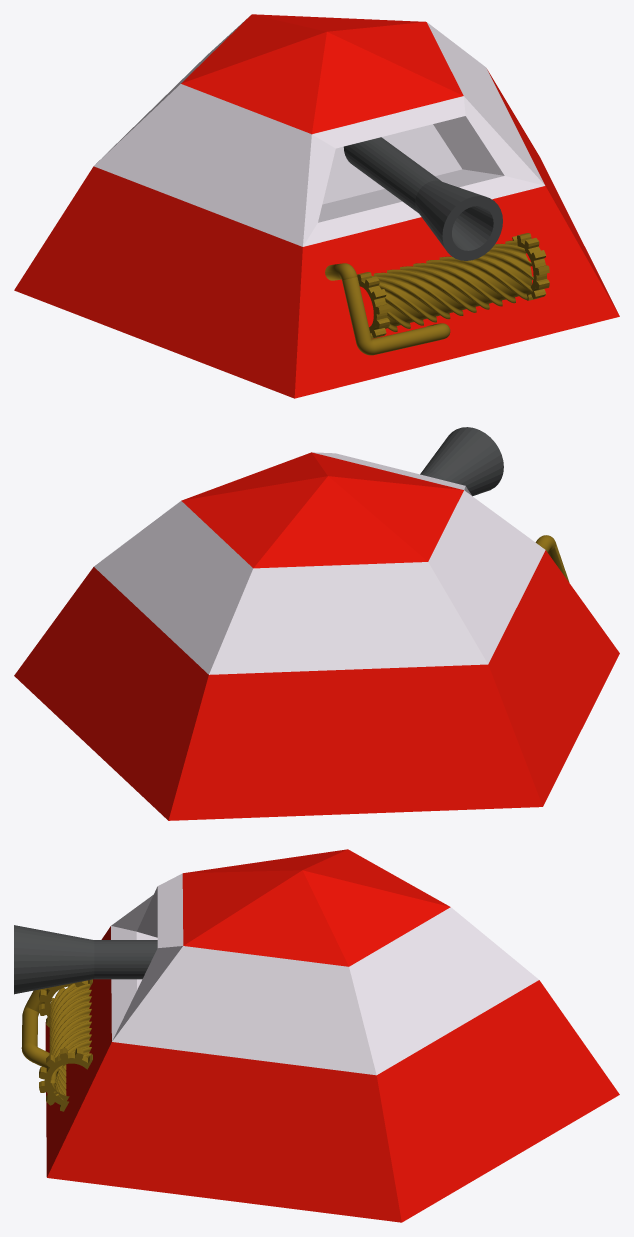
File: Model_Defender_Short_MiscUpgrade.fbx
The picture shows the model from 3 angles, top to bottom: view 1: azimuth 30°, elevation 25°; view 2: azimuth 150°, elevation 25°; view 3: azimuth 270°, elevation 25°; orthographic projection.
Parts seen in each view (by area): view 1: Icosphere, Speedgear, Cylinder, Speedpipe; view 2: Icosphere, Cylinder; view 3: Icosphere, Cylinder, Speedgear, Speedpipe.
Boxes of the visible parts, left/top/right/bottom form: Icosphere: left=14, top=14, right=619, bottom=398; Speedgear: left=357, top=233, right=549, bottom=338; Cylinder: left=343, top=137, right=502, bottom=260; Speedpipe: left=325, top=263, right=450, bottom=355; Icosphere: left=14, top=452, right=619, bottom=820; Cylinder: left=420, top=427, right=503, bottom=496; Icosphere: left=45, top=849, right=619, bottom=1222; Cylinder: left=14, top=925, right=157, bottom=994; Speedgear: left=39, top=979, right=92, bottom=1111; Speedpipe: left=21, top=988, right=49, bottom=1067.
Bounding box in the file's own units: 214 × 90.21 × 215.
